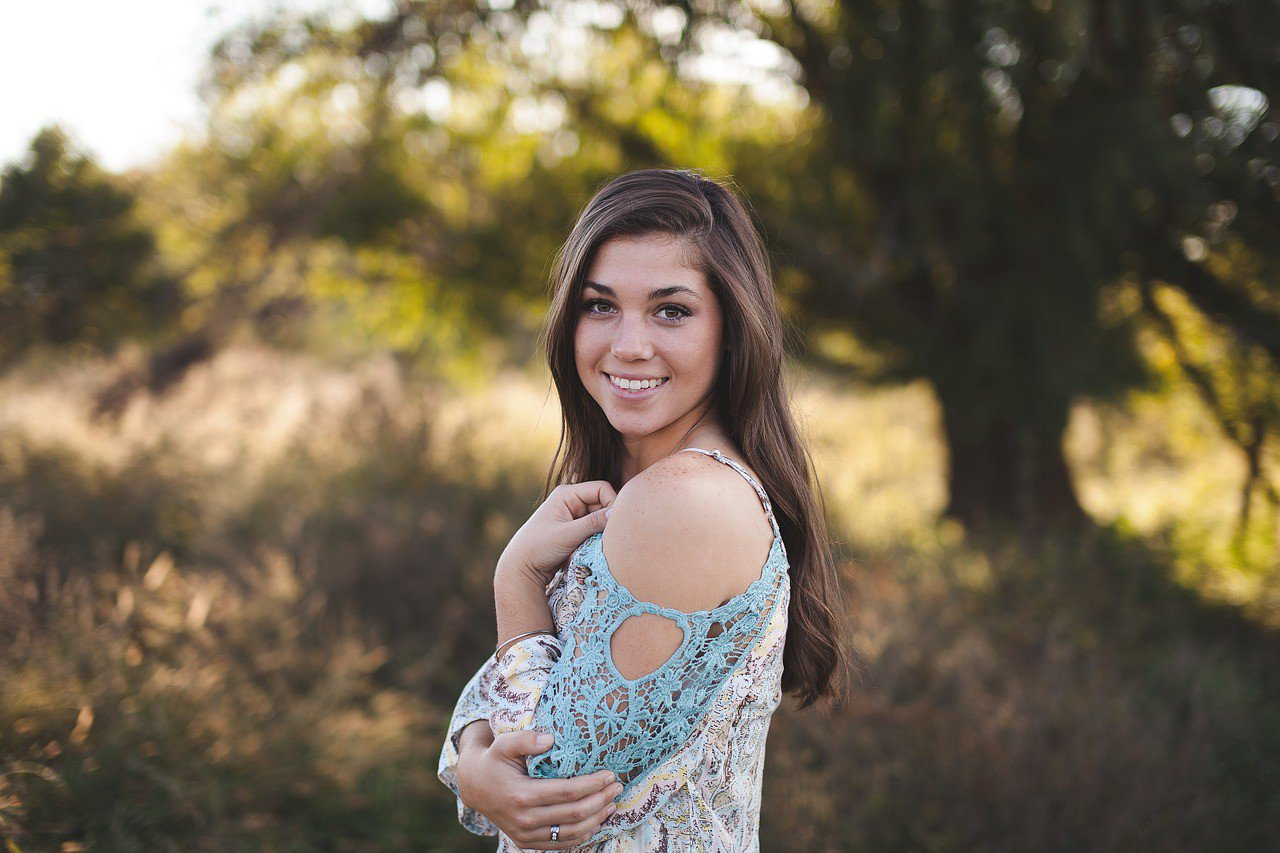noMask: (528, 153, 784, 449)
